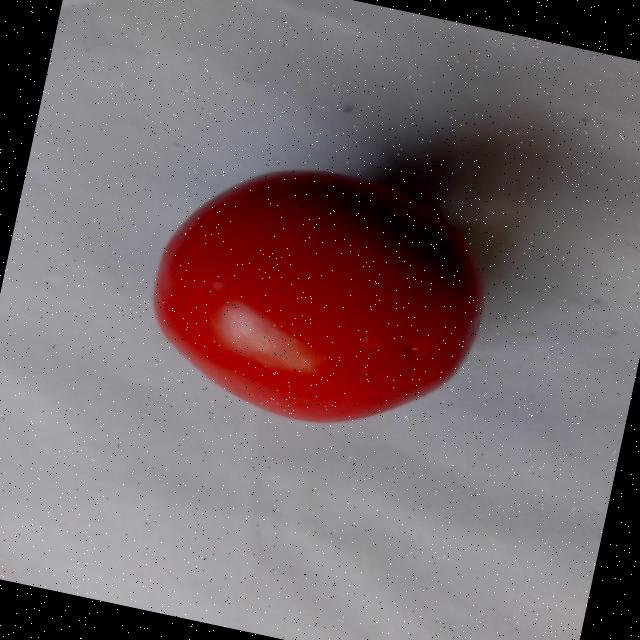Tomato: (128, 137, 506, 456)
